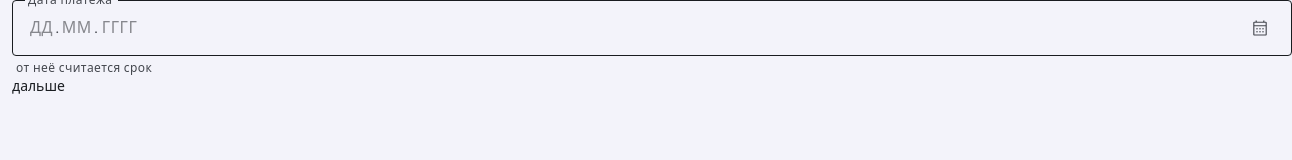
Test case: DateInput: несуществующая дата › исправленная дата отдаётся, ошибка уходит
The image size is (1292, 160).
Type "31" into the field with placeholder "ДД" at (42, 28), box [28,16,55,40]
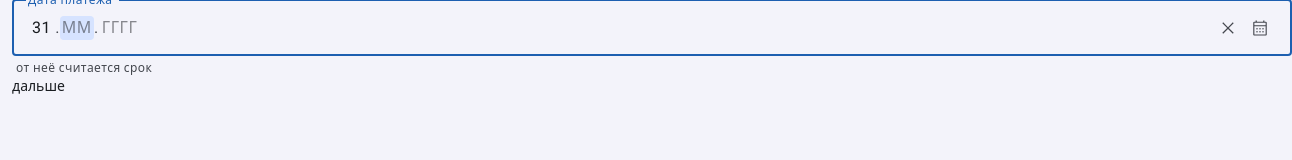
Type "02" into the field with placeholder "ММ" at (77, 28), box [60,16,94,40]
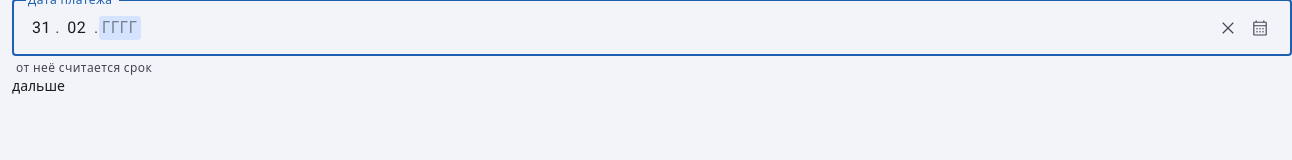
Type "2026" into the field with placeholder "ГГГГ" at (120, 28), box [99,16,141,40]
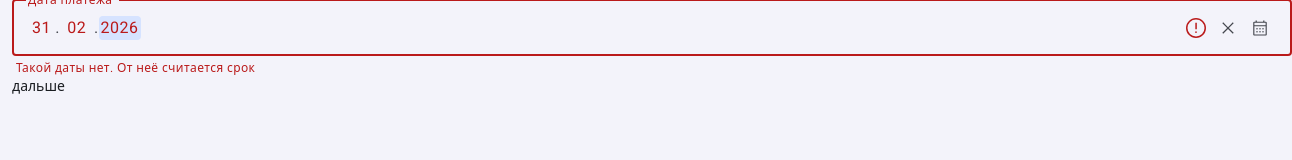
Replace the text in the field with placeholder "ДД" with "28" at (42, 28), box [28,16,55,40]
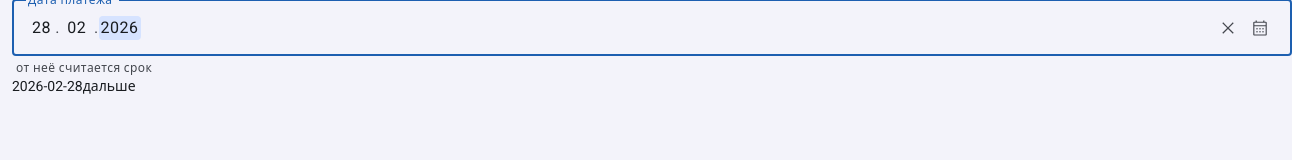
Expected: the text "Такой даты нет" is gone
